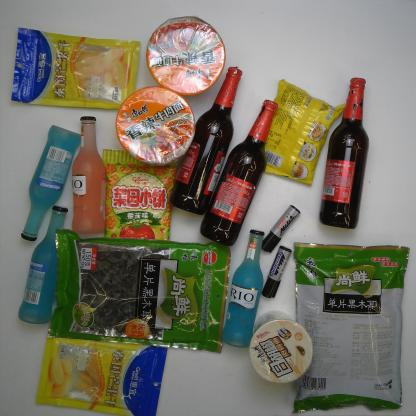Alcohol: (199, 98, 279, 248), (168, 65, 243, 216), (318, 77, 370, 230), (20, 124, 82, 242), (16, 204, 68, 326), (220, 228, 265, 349), (71, 115, 108, 235)
Dried Food: (45, 227, 232, 355), (291, 240, 411, 414)
Dried Fruit: (10, 26, 141, 110), (34, 336, 168, 416)
Instant Noodles: (264, 78, 347, 188), (115, 85, 197, 167), (145, 15, 226, 96), (248, 309, 314, 386)
Puffed Food: (101, 146, 180, 242)
Stationery: (261, 204, 301, 254), (261, 245, 292, 299)
